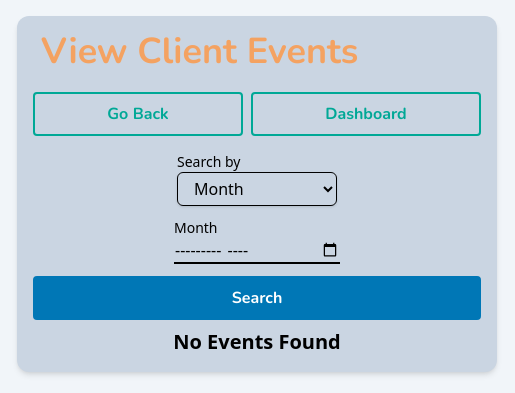
Test: ViewClientEventsListPage › switches to date search when 'Dates' is selected
This screenshot has width=515, height=393.
Select "Dates" in the dropdown labelled "Search by" at (257, 189), box [177,172,337,206]
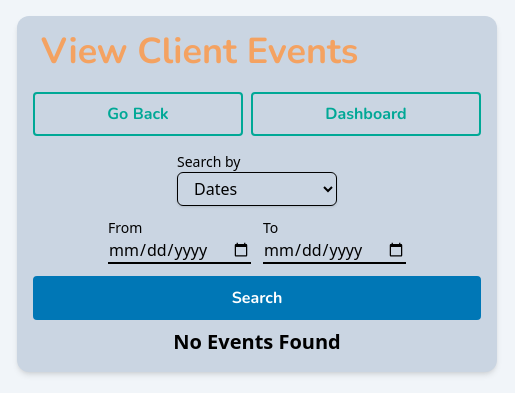
Check: the date field labelled "From" is shown, box [108,238,251,264]
Check: the date field labelled "To" is shown, box [263,238,406,264]
